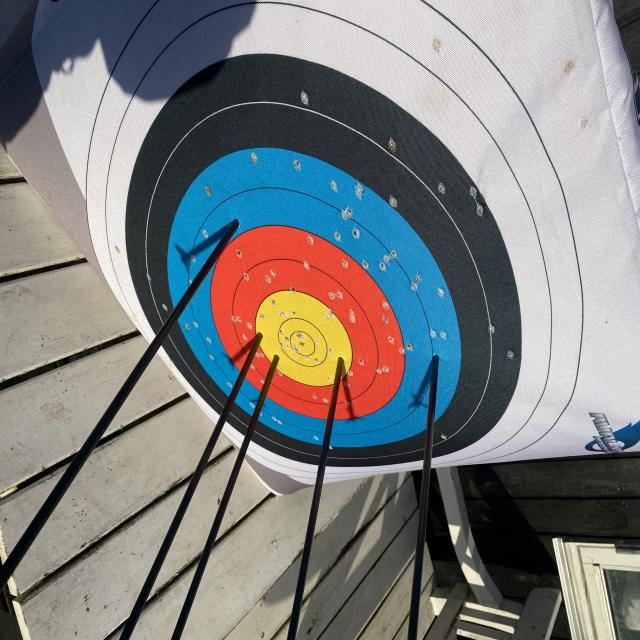Arrow_Blue: (218, 206, 252, 244), (420, 347, 456, 381)
Arrow_Yellow: (261, 349, 298, 372), (326, 349, 356, 375), (244, 324, 268, 348)
